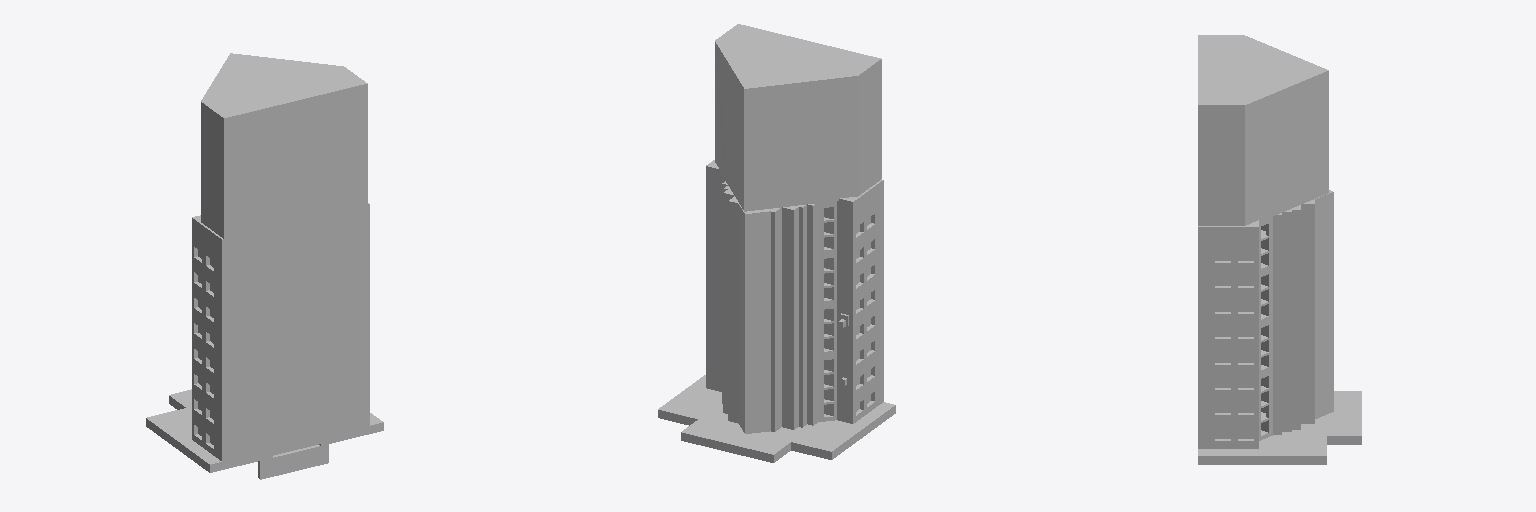
Rendered from Samochodówka_cz1.obj.
3 renders of one model, left to right at view 1: azimuth 30°, elevation 25°; view 2: azimuth 150°, elevation 25°; view 3: azimuth 270°, elevation 25°, orthographic.
Visible parts, largest first — view 1: samochodowka_cz1; view 2: samochodowka_cz1; view 3: samochodowka_cz1.
Boxes of the visible parts, x1=… form: samochodowka_cz1: x1=146, y1=53, x2=383, y2=479; samochodowka_cz1: x1=658, y1=24, x2=895, y2=462; samochodowka_cz1: x1=1198, y1=35, x2=1361, y2=464.
Bounding box in the file's own units: 0.0253 × 0.0515 × 0.0206.